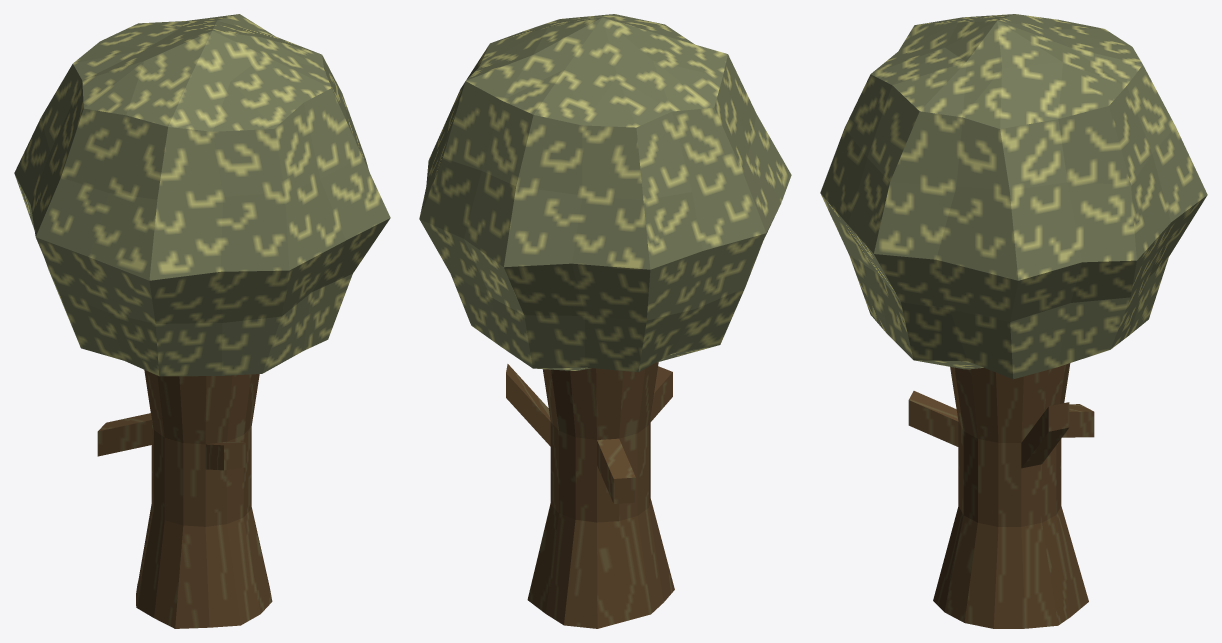
File: tree.fbx
The picture shows the model from 3 angles, left to right: view 1: azimuth 30°, elevation 25°; view 2: azimuth 150°, elevation 25°; view 3: azimuth 270°, elevation 25°; orthographic projection.
Parts seen in each view (by area): view 1: Sphere, Cube; view 2: Sphere, Cube; view 3: Sphere, Cube.
Boxes of the visible parts, <box> form: Sphere: <box>14,14,390,376</box>; Cube: <box>97,370,272,628</box>; Sphere: <box>419,14,791,372</box>; Cube: <box>506,362,674,628</box>; Sphere: <box>820,14,1207,379</box>; Cube: <box>908,363,1094,628</box>.
Bounding box in the file's own units: 478 × 786 × 471.
Materials: 1 (1 with a texture image).
